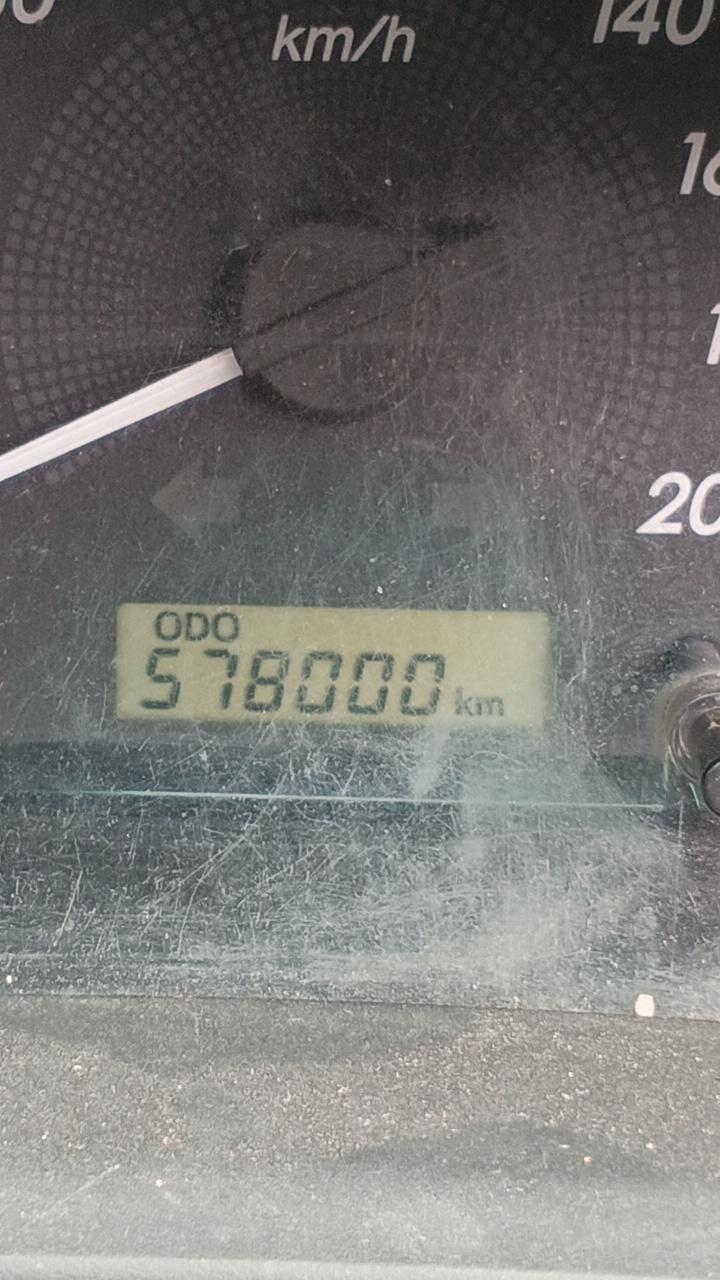0: (295, 650, 344, 714), (398, 653, 446, 718), (346, 653, 395, 716)
5: (140, 647, 182, 710)
7: (201, 648, 239, 712)
8: (243, 649, 291, 712)
X: (154, 610, 181, 642), (212, 612, 239, 642), (185, 612, 210, 642), (476, 695, 506, 718), (454, 686, 475, 718)
odometer: (113, 601, 549, 733)
